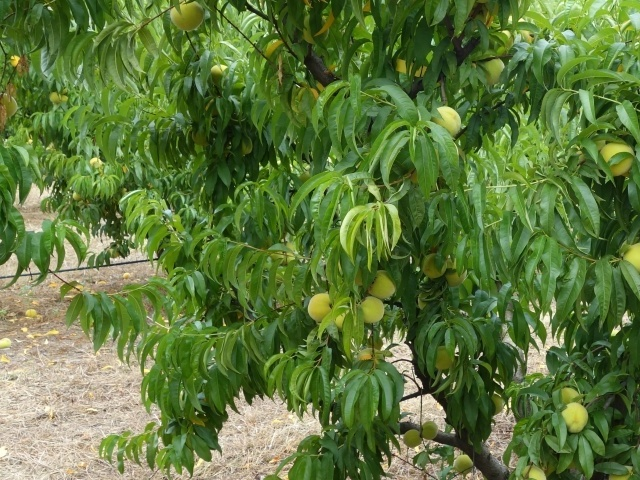peach: (595, 137, 636, 175), (556, 398, 591, 437), (364, 267, 400, 303), (168, 1, 207, 33), (432, 101, 464, 139), (475, 53, 510, 87), (303, 291, 337, 324), (616, 234, 640, 279), (356, 293, 388, 325), (440, 257, 471, 287), (420, 251, 448, 281), (432, 342, 457, 374), (554, 386, 582, 414), (357, 342, 384, 368), (450, 451, 477, 477), (516, 460, 549, 480), (399, 427, 424, 452), (486, 390, 507, 416), (416, 420, 440, 442), (206, 63, 229, 85)
